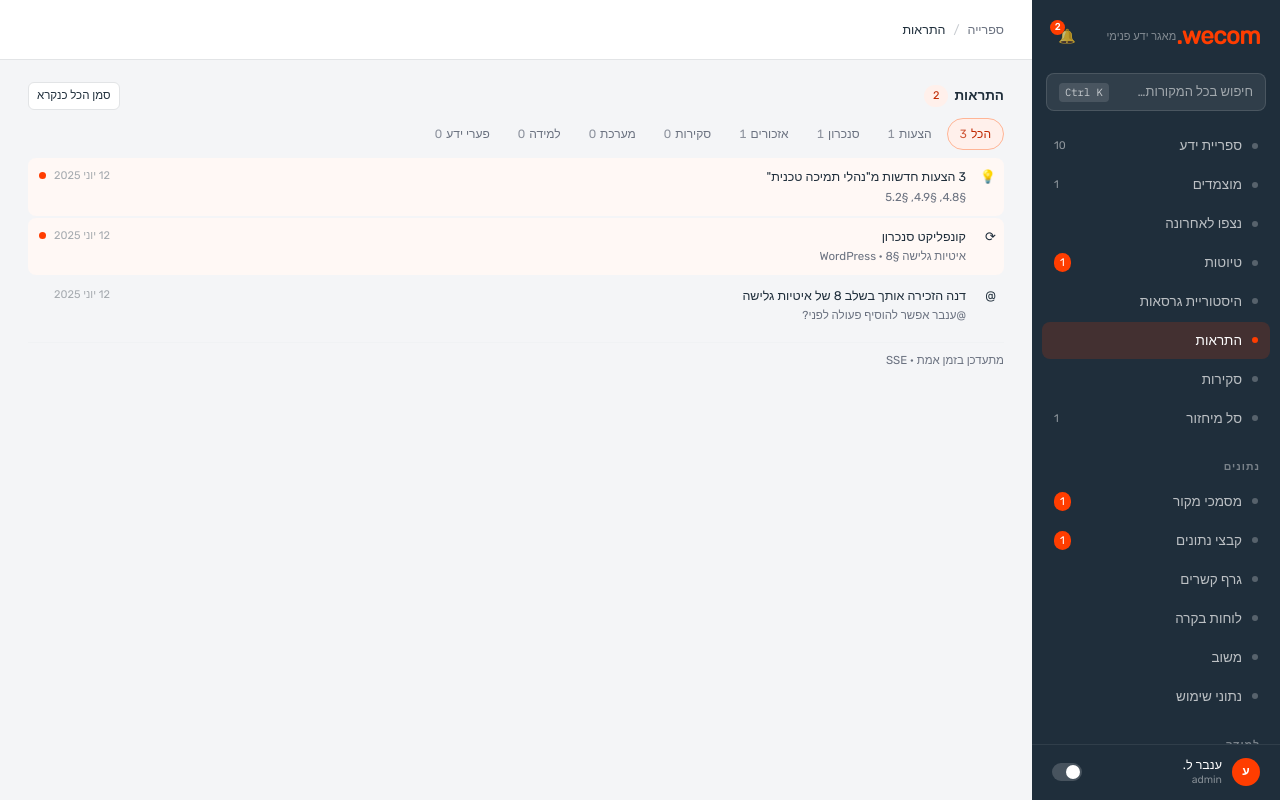
it: notification centre › filters by kind
Expected: the text "3 הצעות חדשות מ\"נהלי תמיכה טכנית\"" is shown, [767,169,966,184]
Click the tab "אזכורים1": click(764, 134) [726,118,802,150]
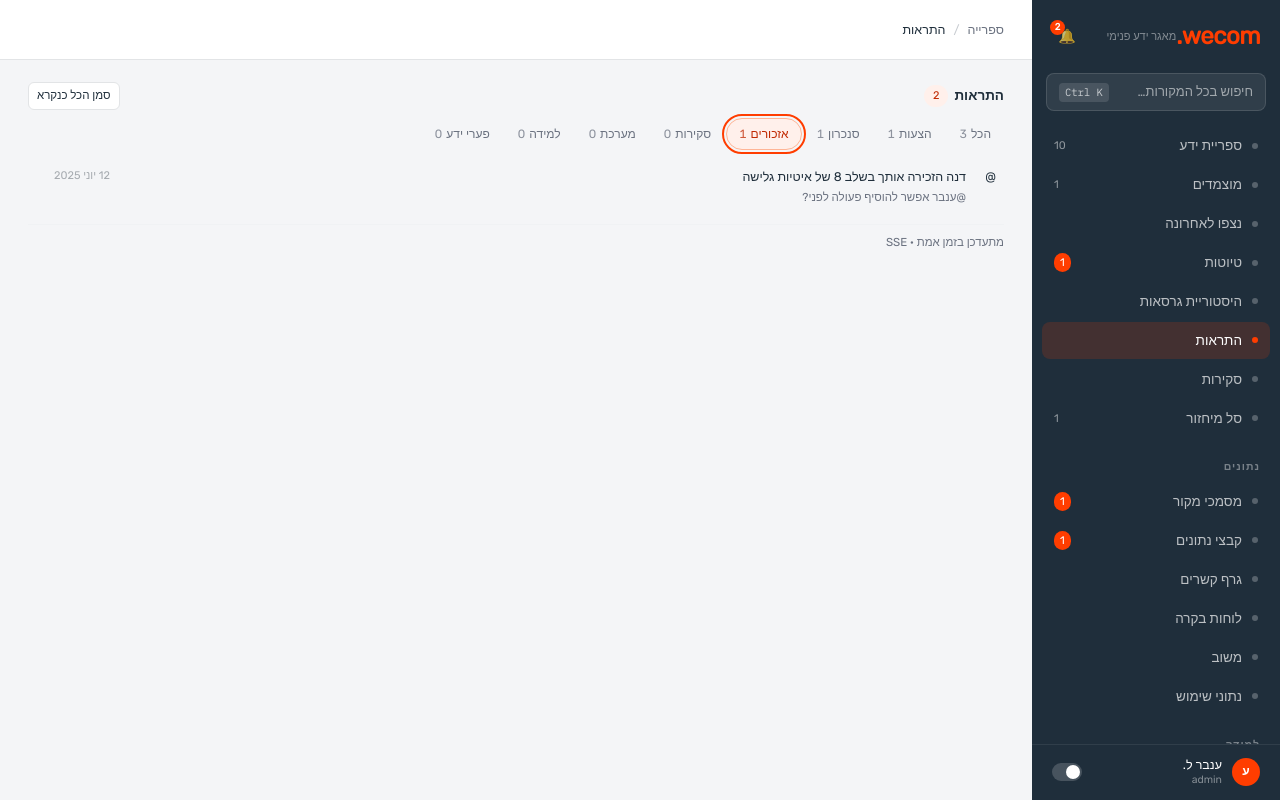
Expected: the text "דנה הזכירה אותך בשלב 8 של איטיות גלישה" is shown, [742,169,966,184]
Result: the button "3 הצעות חדשות" is gone
